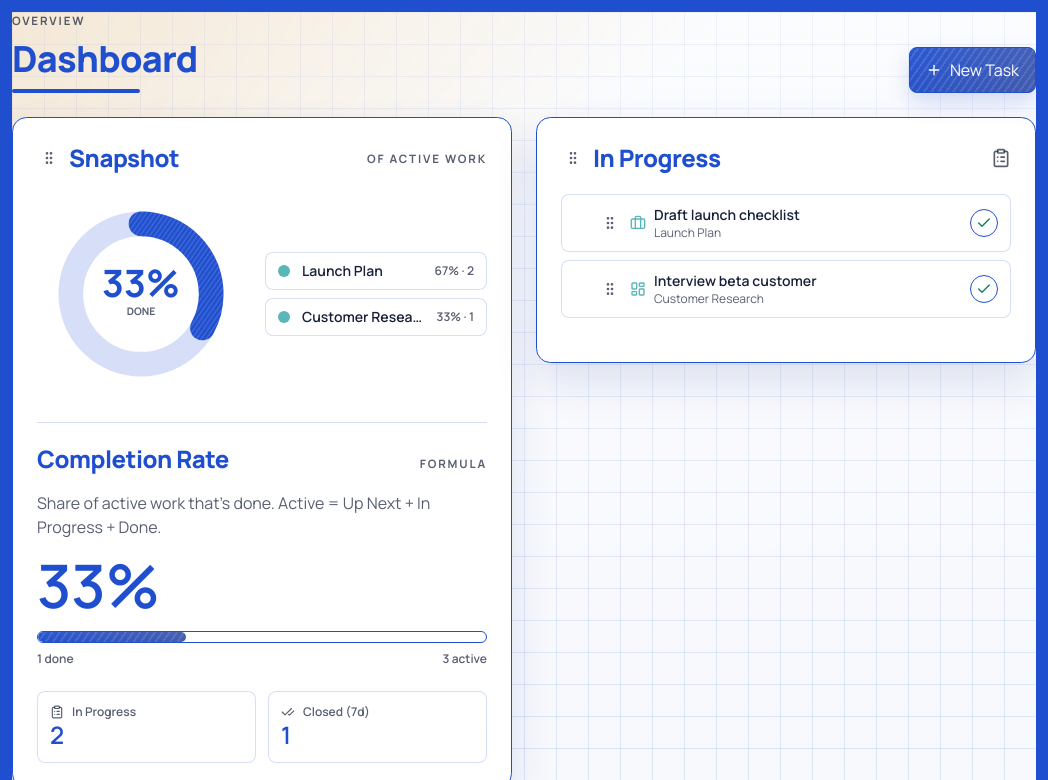
Test: DashboardOverview in-progress panel › shows an error and restores the task when marking it done fails
Click the button named "Mark Draft launch checklist done" at point(984, 223), box 970,209 -> 998,237
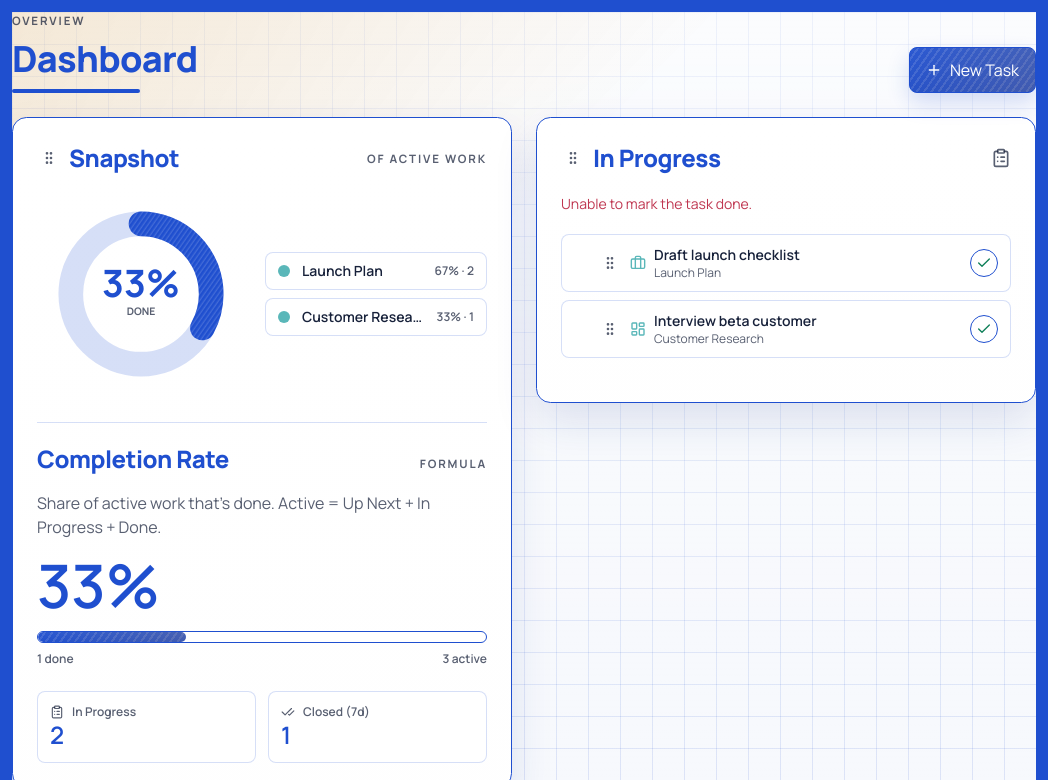
Expected: the link "Draft launch checklist" is shown, 654,245 -> 800,265
Result: the text "Unable to mark the task done." is shown at 561,194 -> 752,213
